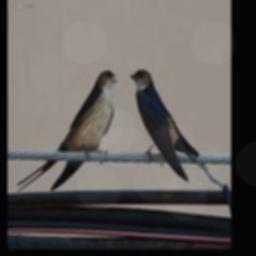Swallow: (15, 70, 117, 190), (129, 68, 223, 188)
